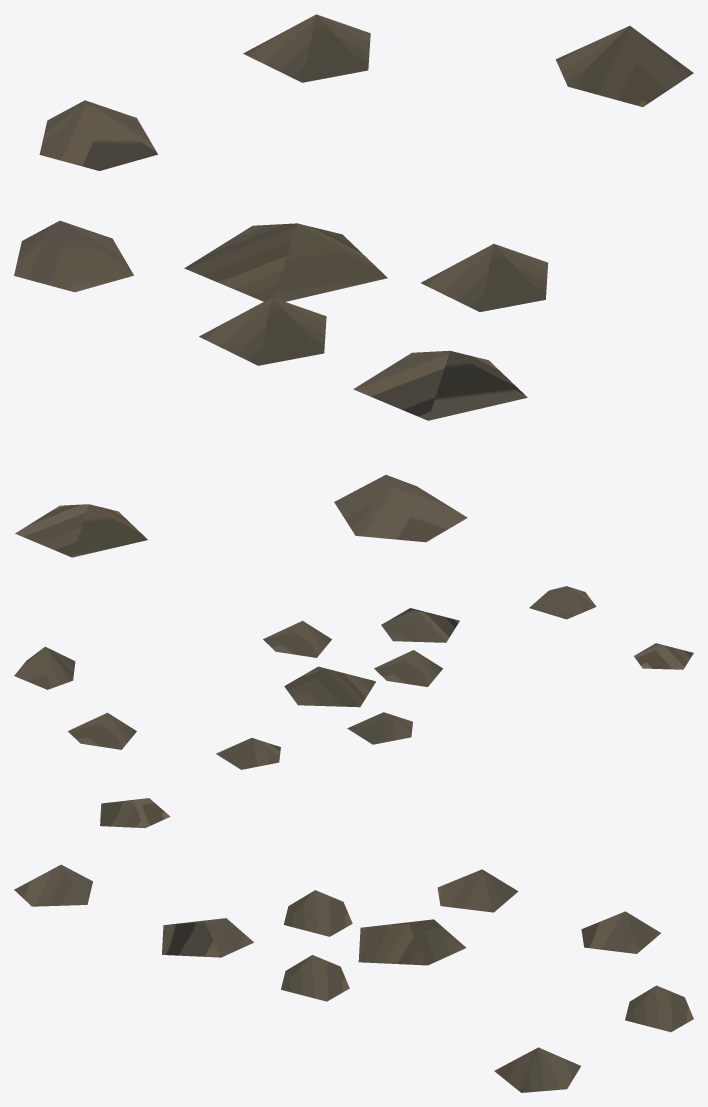
Rendered from rock_gfield3_hdtex.glb.
3 renders of one model, top to bottom at view 1: azimuth 30°, elevation 25°; view 2: azimuth 150°, elevation 25°; view 3: azimuth 270°, elevation 25°, orthographic. The views are drawn at different scales.
Parts seen in each view (by area): view 1: Rock_GField1; view 2: Rock_GField1; view 3: Rock_GField1.
Boxes of the visible parts, x1,y1,x2,y2 form: Rock_GField1: (14, 14, 693, 557); Rock_GField1: (14, 586, 693, 769); Rock_GField1: (14, 798, 693, 1092).
Bounding box in the file's own units: 21.58 × 1.08 × 21.03.
1 material, 1 textured.
